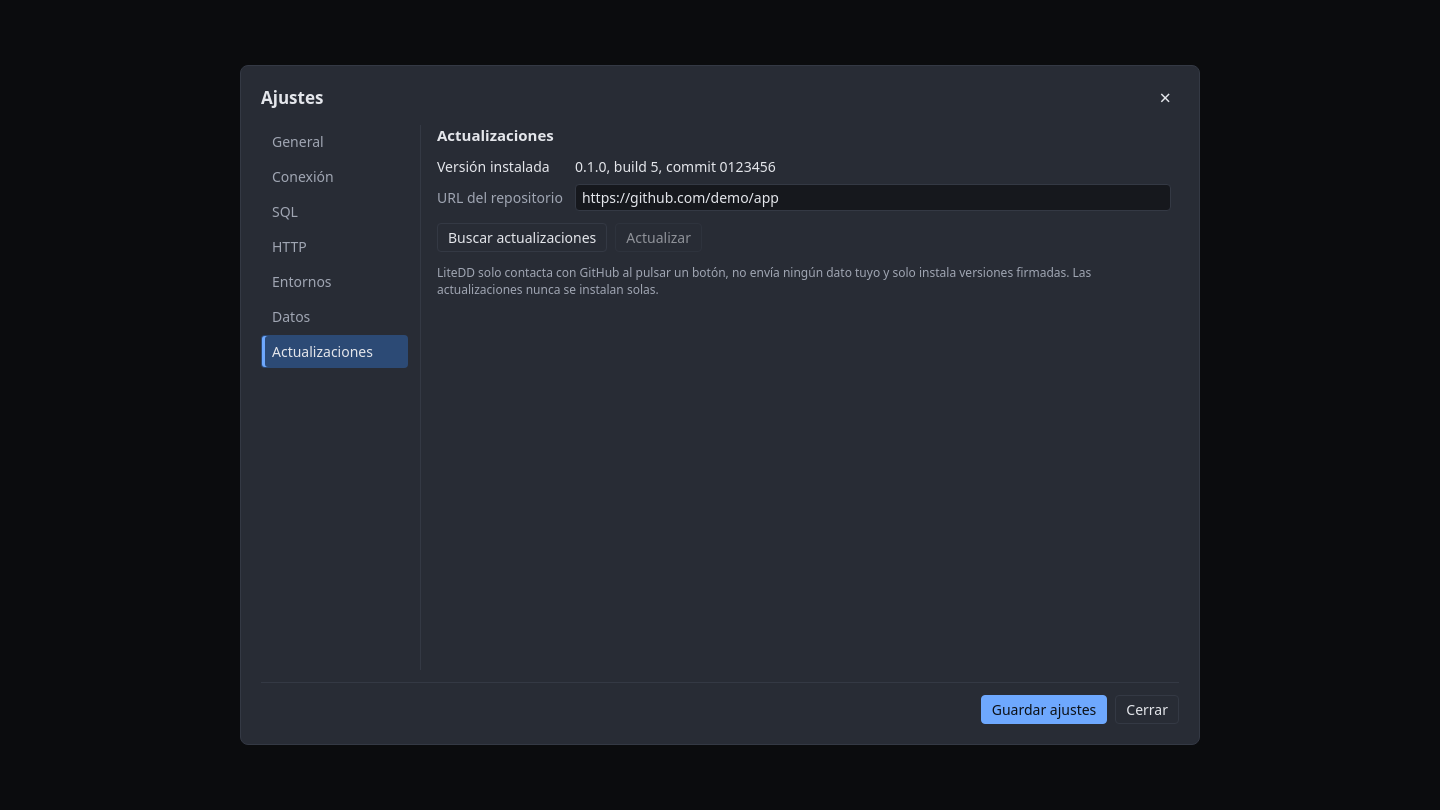
Test: R-13 búsqueda › R-13 si falla dice el motivo
Click the button "Buscar actualizaciones". click: coordinates (522, 238)
box: 437,223 -> 607,252
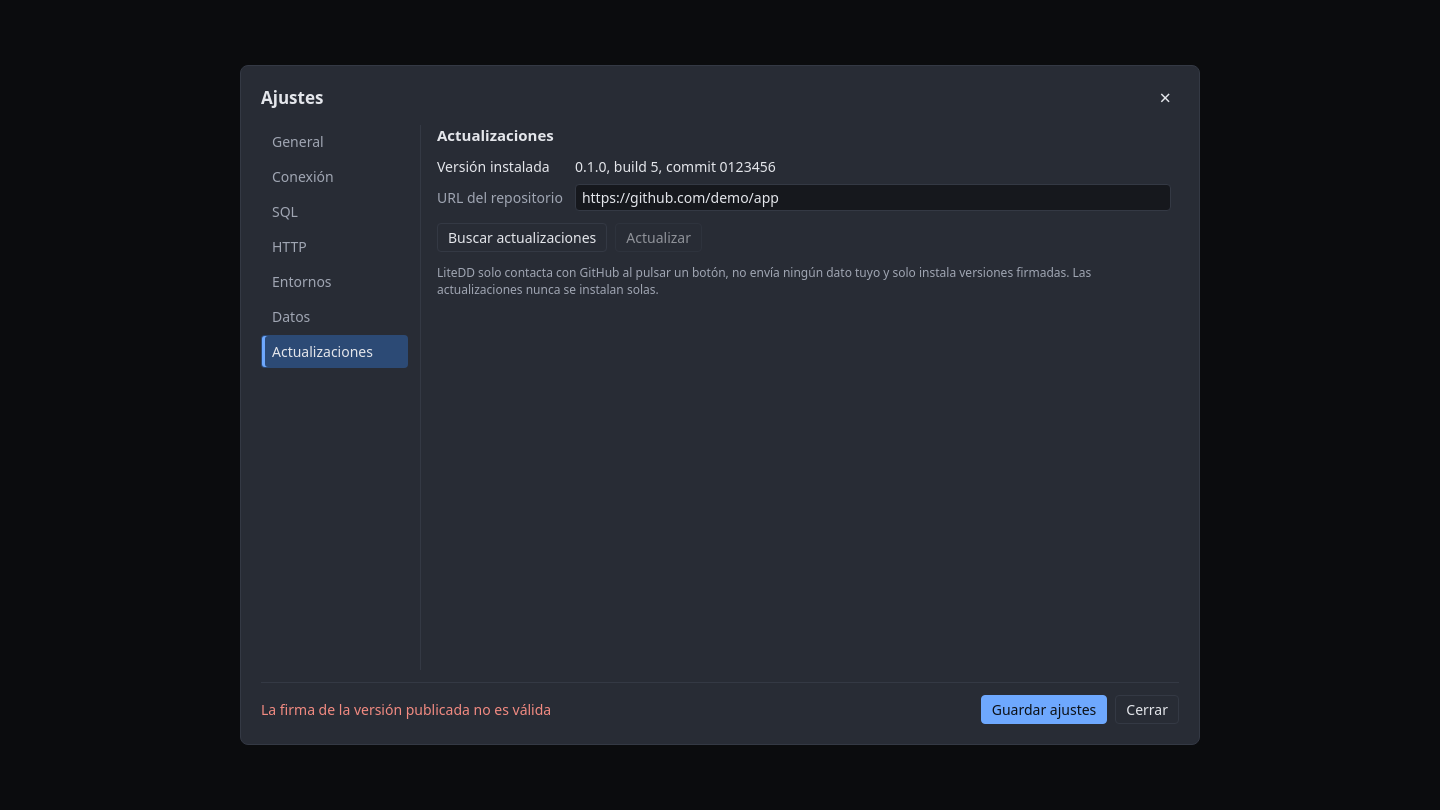
Expected: the button "Actualizar" is disabled, 615,223 -> 702,252
Expected: the message reads "La firma de la versión publicada no es válida", 261,700 -> 551,719
